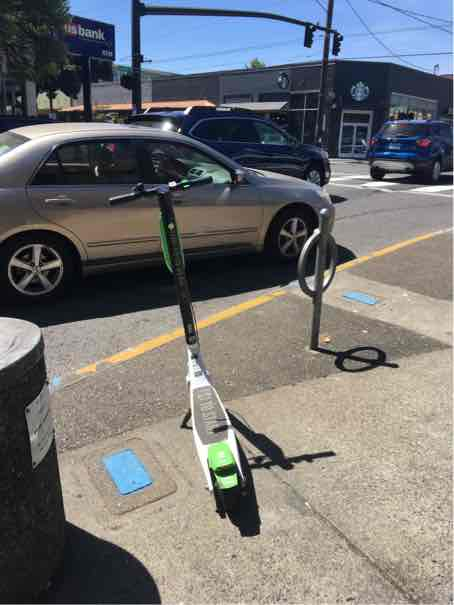scooter: (101, 148, 280, 541)
